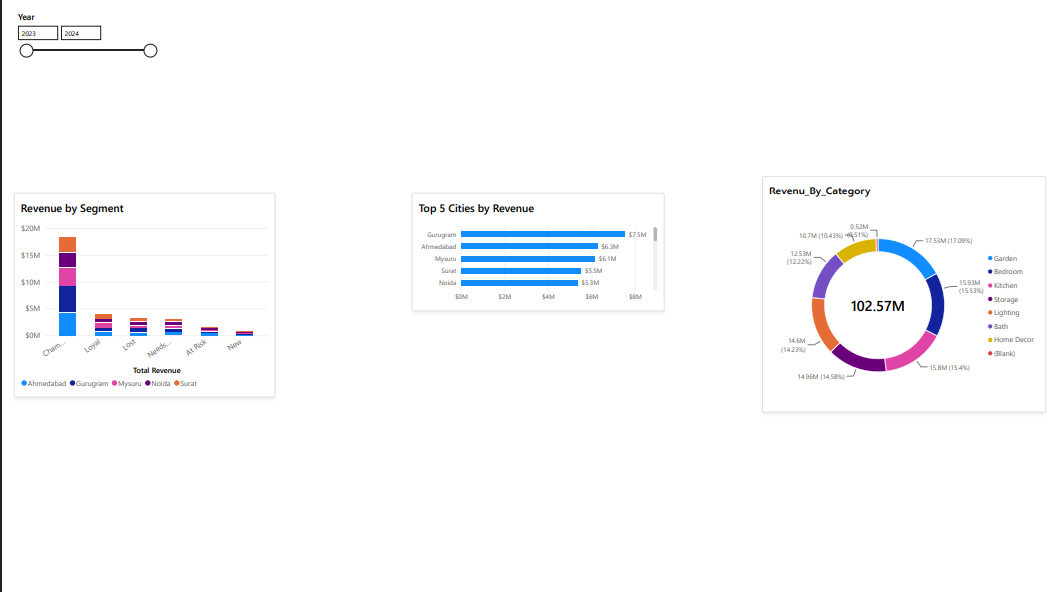

The page's visual inventory and layout, read from the dashboard file:
{"tool":"powerbi","page":{"name":"Revenue and Customers","canvas":[1920,1080],"ordinal":1},"visuals":[{"type":"columnChart","title":"Revenue by Segment","fields":{"Category":["rfm_customers.segment"],"Series":["clean customers.city"],"Y":["mart vw_order_revenue.Total_Revenue"]},"box":[0,340,486,380],"z":0},{"type":"barChart","title":"Top 5 Cities by Revenue","fields":{"Category":["clean customers.city"],"Y":["mart vw_order_revenue.Total_Revenue"]},"box":[740,340,470,220],"z":1000},{"type":"slicer","fields":{"Values":["Date.Year"]},"box":[0,0,270,262],"z":2000},{"type":"donutChart","title":"Revenu_By_Category","fields":{"Category":["clean products.category"],"Y":["clean order_items.Delivered Line Revenue"]},"box":[1392,308,528,440],"z":3000}]}

Visuals, with their boxes in screenshot pixels (x1, y1, x2, y2), scaled from the page's 1920x1080 canvas onto the 1055x592 screenshot:
"Revenue by Segment" columnChart: (0, 186, 267, 395)
"Top 5 Cities by Revenue" barChart: (407, 186, 665, 307)
slicer - Date.Year: (0, 0, 148, 144)
"Revenu_By_Category" donutChart: (765, 169, 1054, 410)
